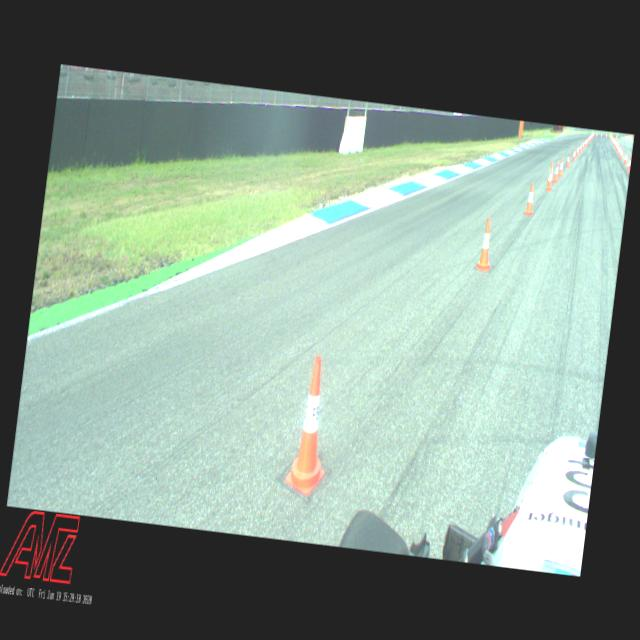orange_cone: (283, 351, 339, 497), (476, 215, 496, 272), (524, 182, 536, 215), (545, 167, 554, 191), (552, 160, 560, 182), (547, 160, 555, 182), (558, 156, 564, 176), (565, 152, 571, 168), (622, 150, 628, 165), (626, 155, 631, 173), (571, 147, 576, 161), (619, 148, 623, 160), (576, 144, 580, 156), (578, 141, 582, 152), (618, 144, 622, 155), (614, 138, 617, 148), (615, 141, 618, 150), (583, 140, 586, 148), (585, 136, 588, 144), (616, 142, 618, 153), (613, 139, 616, 146), (582, 140, 584, 148), (587, 135, 589, 143), (612, 136, 614, 144)
